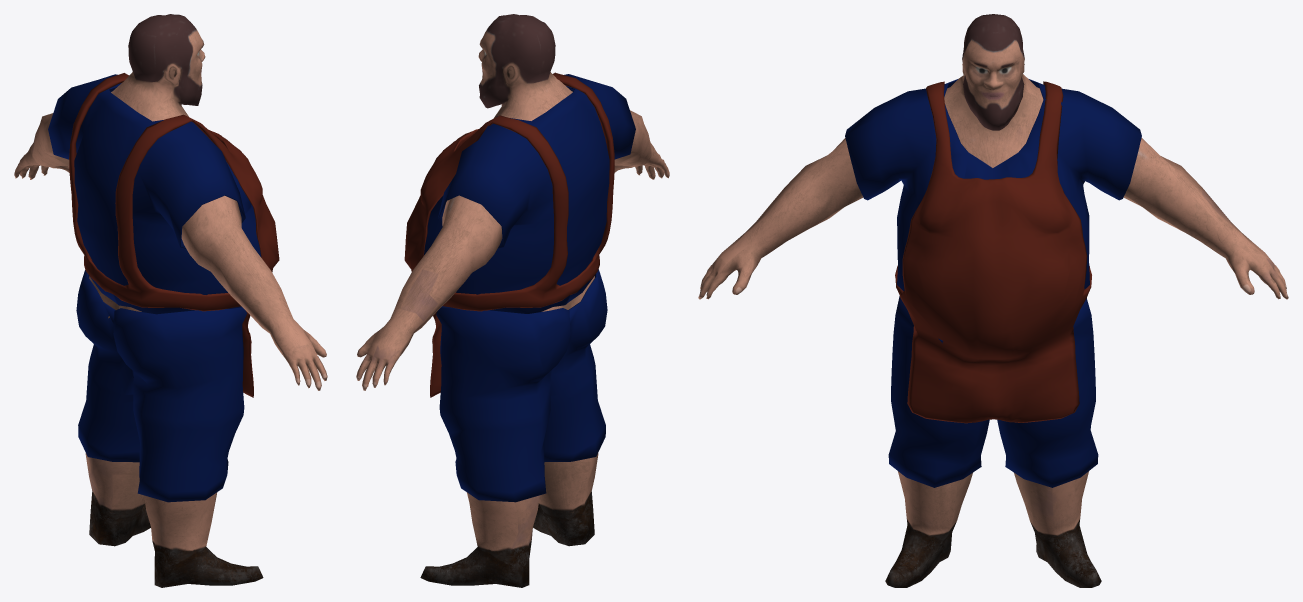
Rendered from biracıNew.fbx.
3 views of the same model, side by side, from view 1: azimuth 30°, elevation 25°; view 2: azimuth 150°, elevation 25°; view 3: azimuth 270°, elevation 25° (orthographic).
Visible parts, largest first — view 1: biracı; view 2: biracı; view 3: biracı.
Part boxes in pixels (left/top/right/bottom): biracı: left=14, top=14, right=327, bottom=587; biracı: left=356, top=14, right=669, bottom=587; biracı: left=698, top=14, right=1288, bottom=587.
Bounding box in the file's own units: 157 × 470 × 457.
3 materials, 1 textured.
